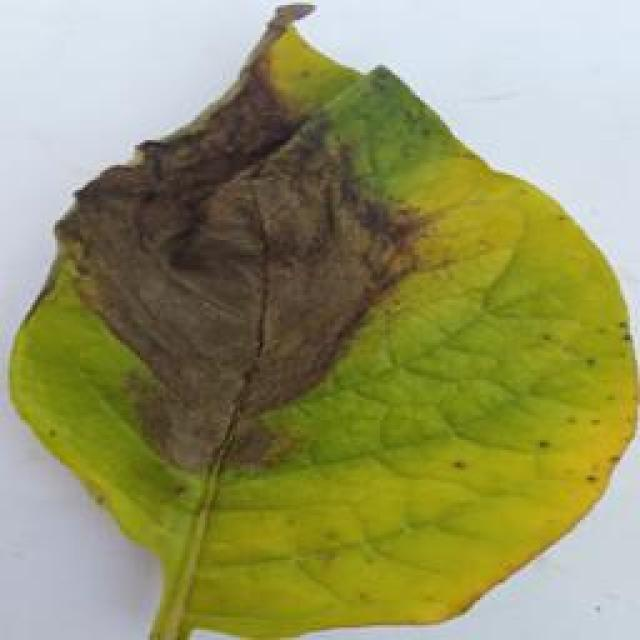Potato_Late_Blight: (15, 12, 626, 637)
